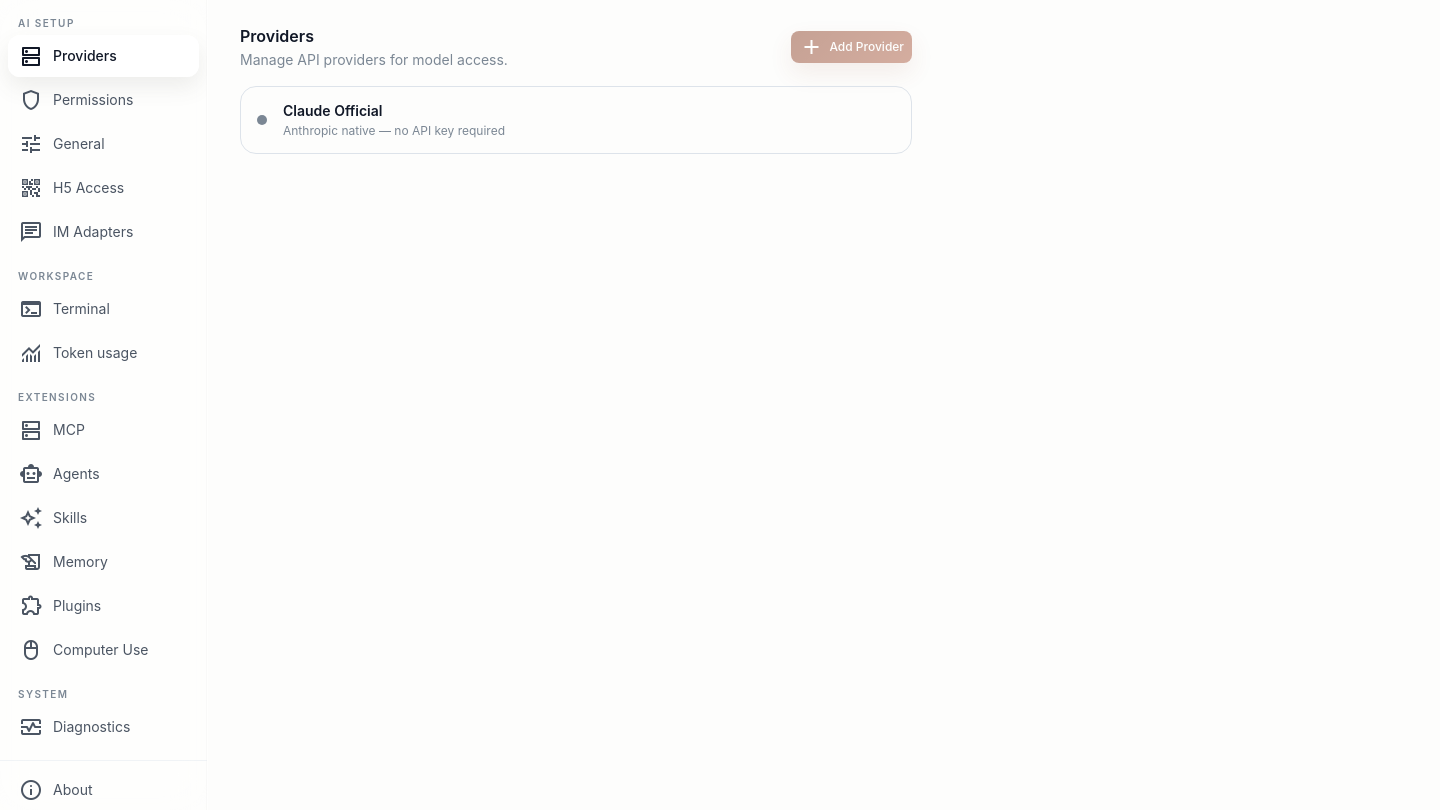
Test: Settings > Agents tab › renders grouped agent browser with source sections
Click the button "Agents". click: (104, 474)
box: 8,453 -> 199,495
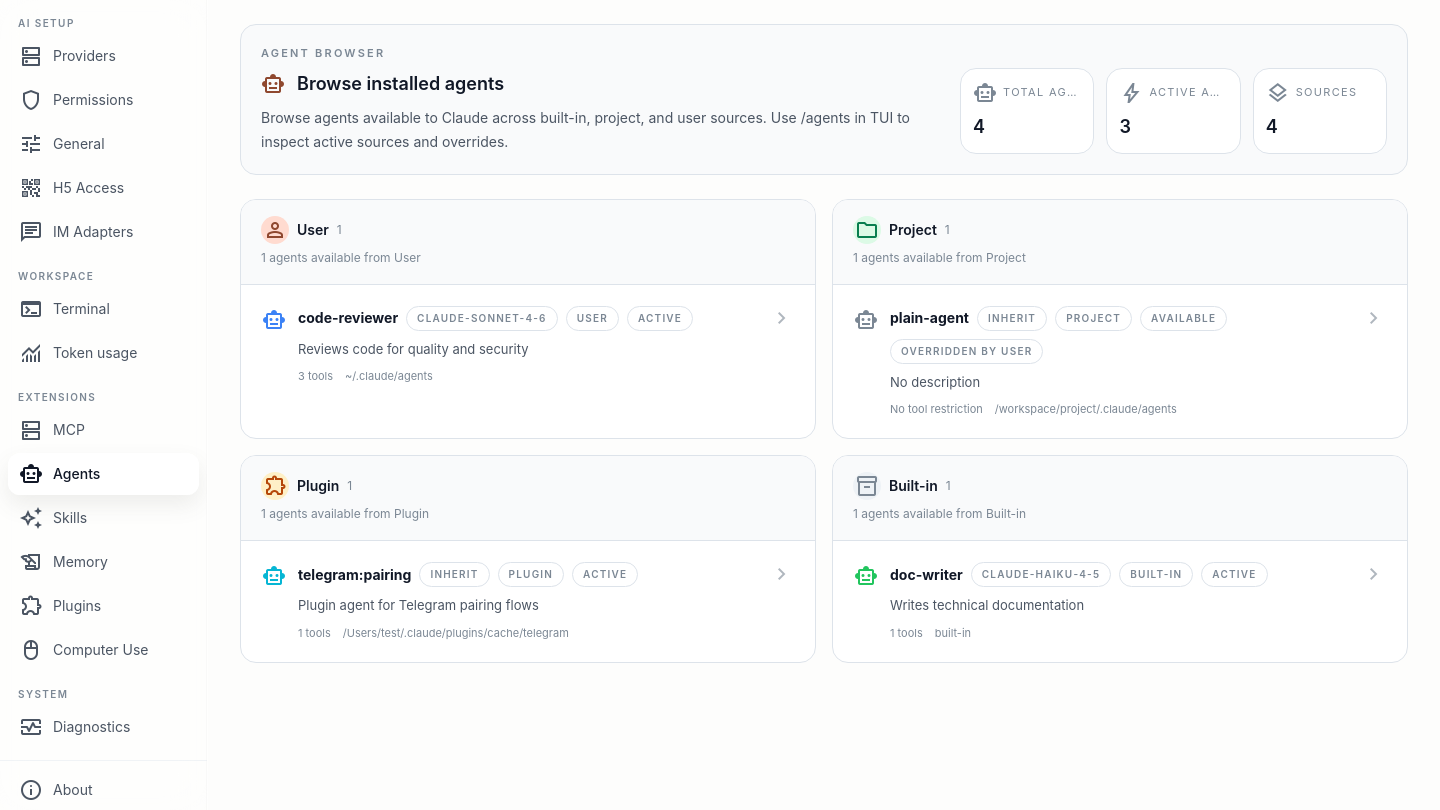
Expected: the heading "Browse installed agents" is shown, 297,70 -> 504,98
Expected: the text "Agent Browser" is shown, 261,46 -> 385,60
Expected: the heading "User" is shown, 297,220 -> 329,240
